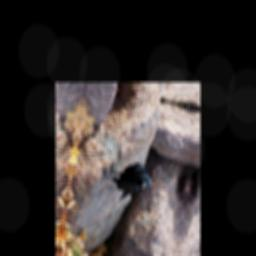Crow: (96, 154, 156, 212)
